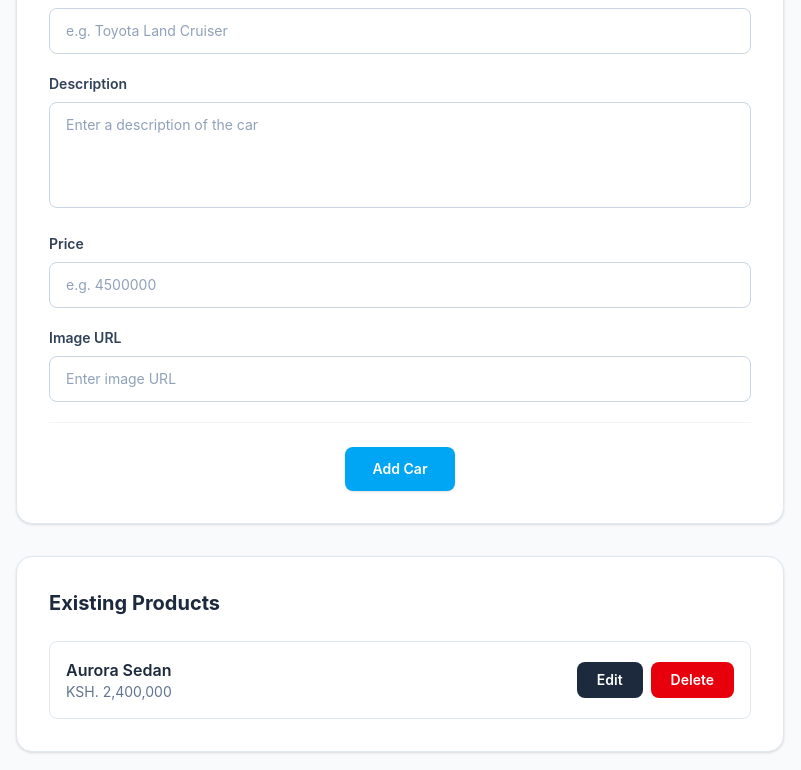
it: Admin page › deletes a car
The width and height of the screenshot is (801, 770).
(page scrolled)
expect the heading "Aurora Sedan" is shown: met, box [66,658,172,682]
Click the button "Delete" at (692, 680), box [651,662,734,698]
(page scrolled)
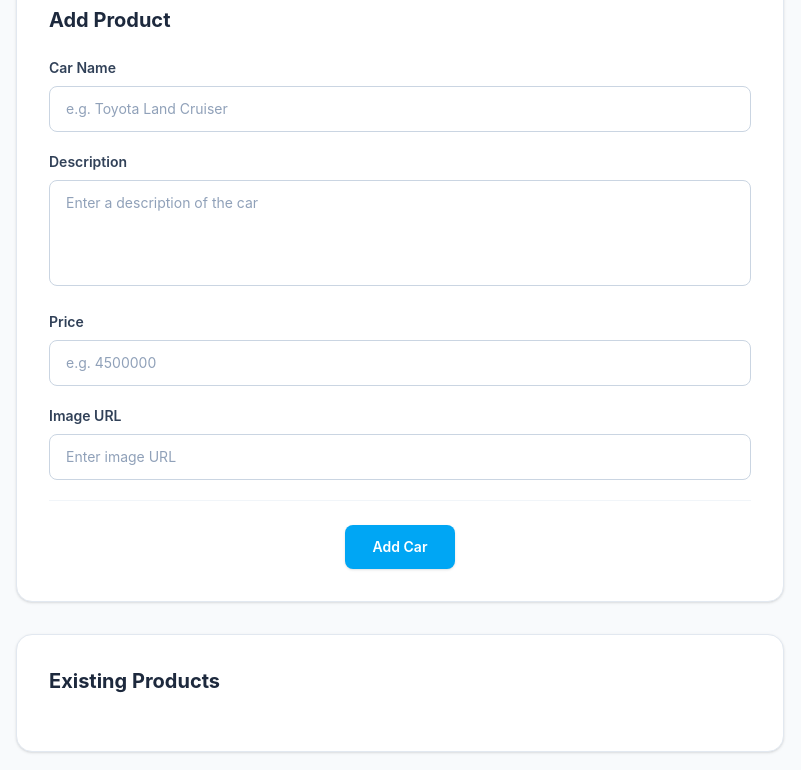
expect the heading "Aurora Sedan" is gone: met
